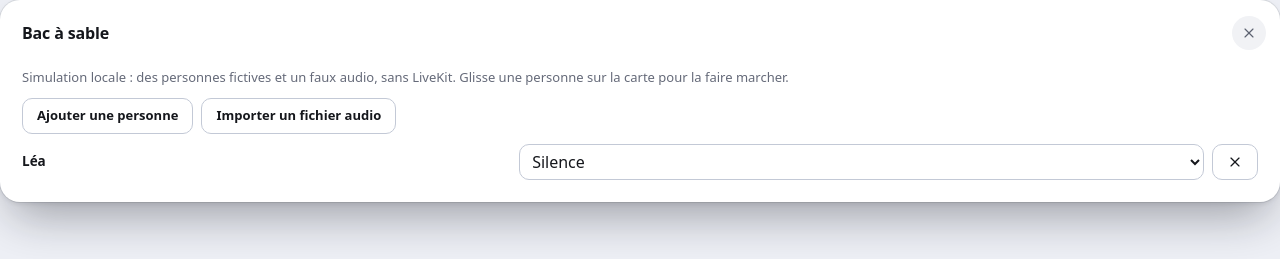
Test: SimPanel › « Retirer » la retire de la liste
Click the button named "Retirer Léa". click: {"x": 1235, "y": 162}
box: [1212,144,1258,180]
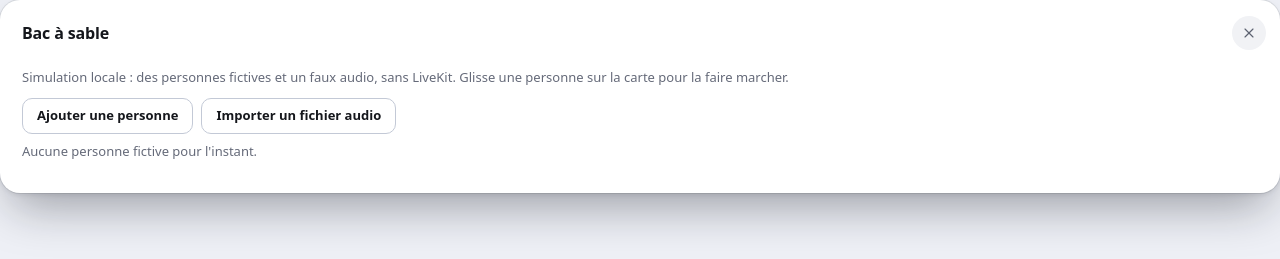
Now the text "Aucune personne fictive pour l'instant." is shown, box [22,142,257,160]
